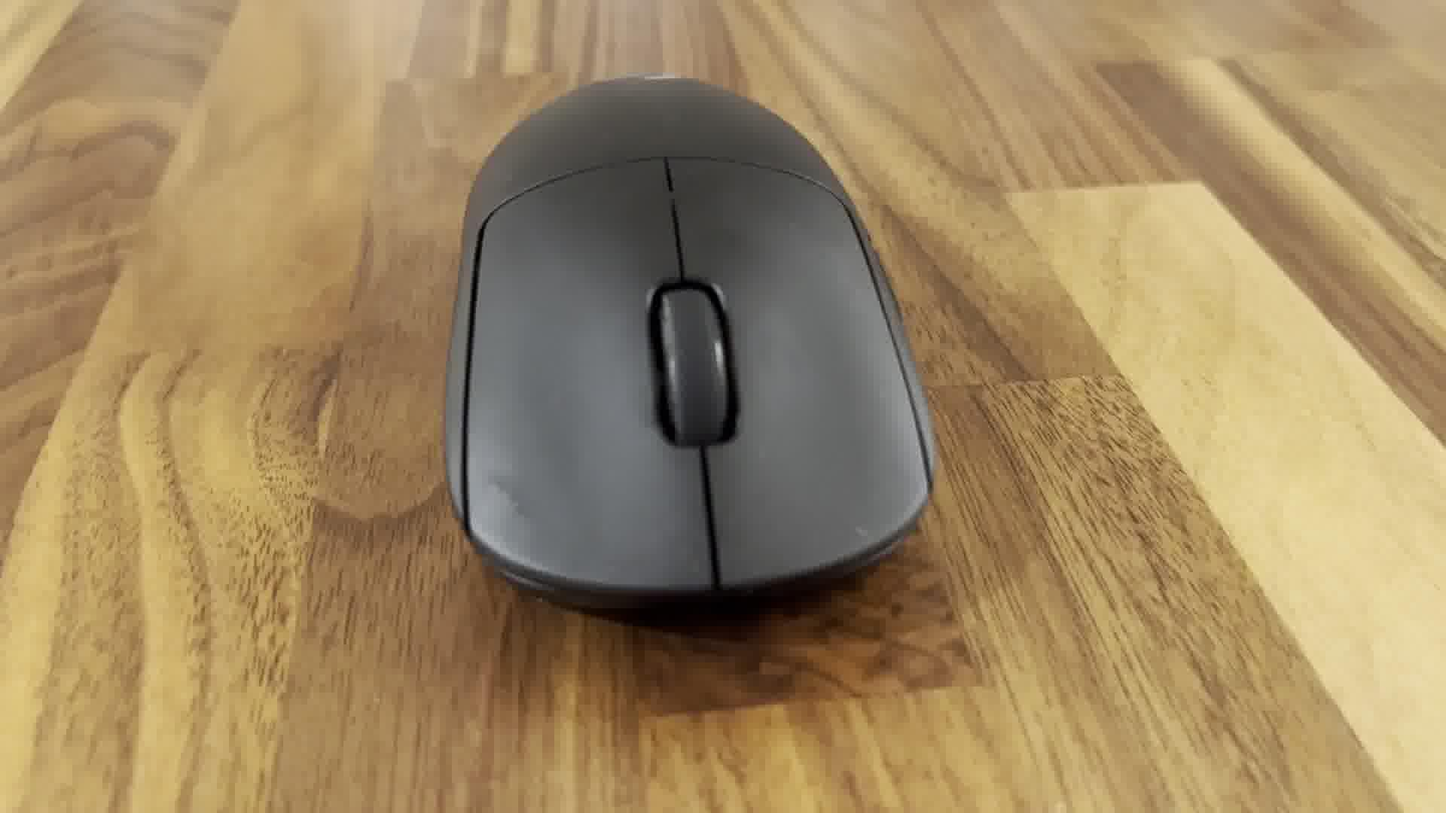mouse: (437, 68, 947, 621)
